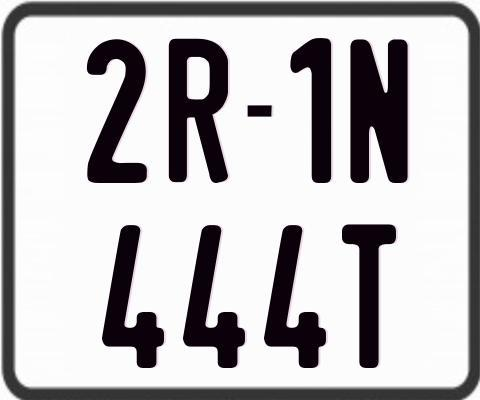1: (290, 37, 337, 183)
2: (87, 36, 153, 183)
4: (180, 225, 247, 373), (263, 224, 330, 372), (102, 225, 164, 370)
N: (349, 36, 408, 180)
R: (168, 37, 228, 186)
T: (341, 222, 400, 368)
